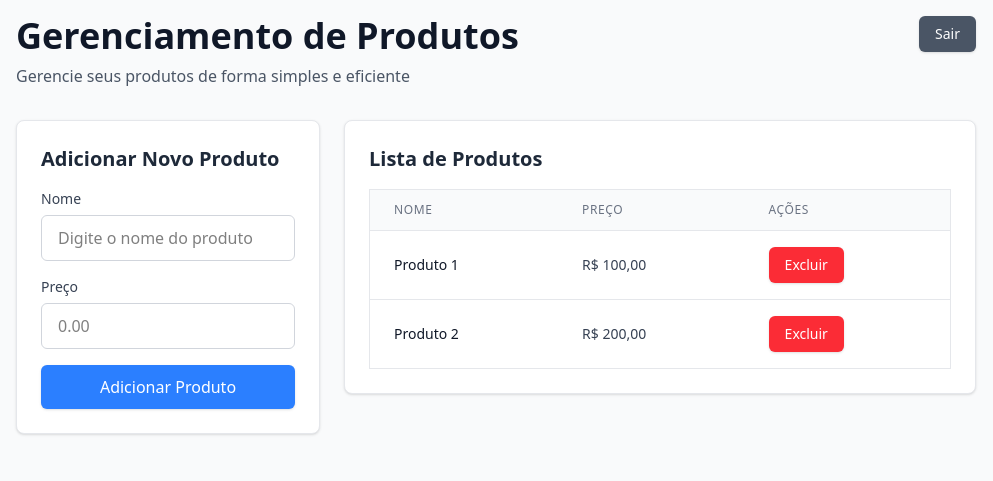
Test: Products - Testes de Integração › fluxo completo de adicionar produto
Check: the text "Produto 1" is shown, box [370,230,558,300]
Type "Produto Novo" into the field labelled "Nome" at (168, 238), box [41,215,295,261]
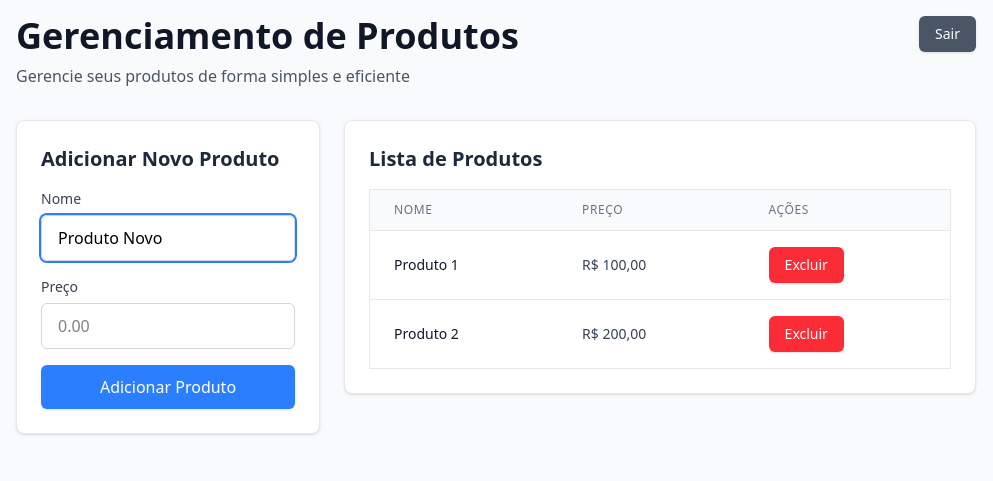
Type "350.75" into the number field labelled "Preço" at (168, 326), box [41,303,295,349]
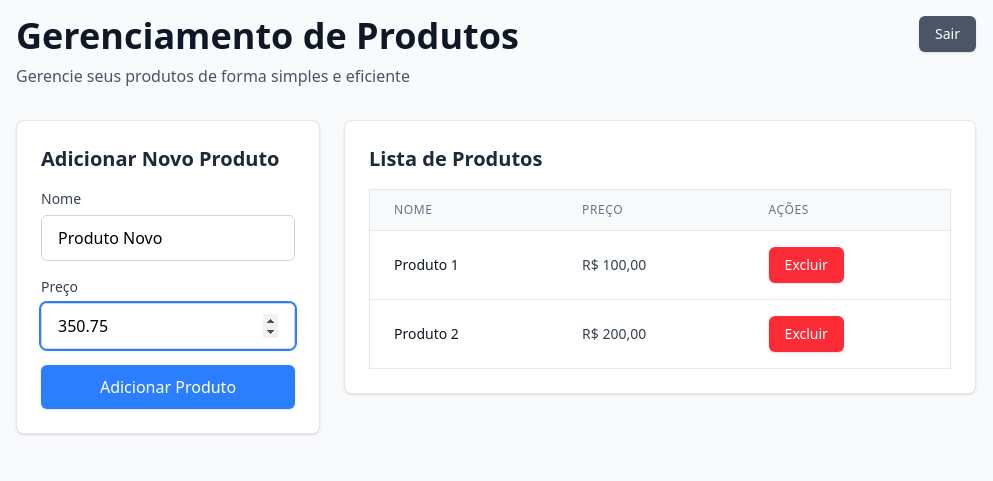
Click the button "Adicionar Produto" at (168, 387), box [41,365,295,409]
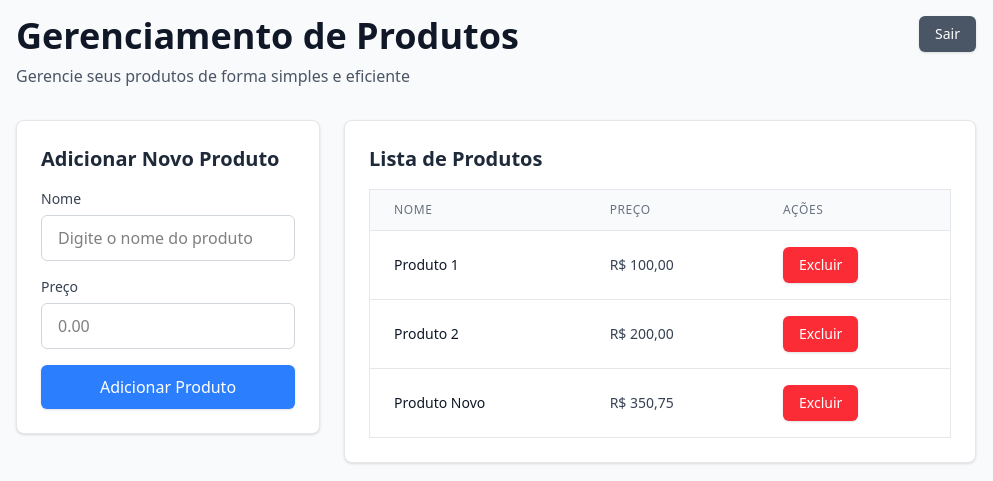
Check: the text "Produto Novo" is shown, box [370,368,586,438]
Check: the text "R$ 350,75" is shown, box [586,368,759,438]
